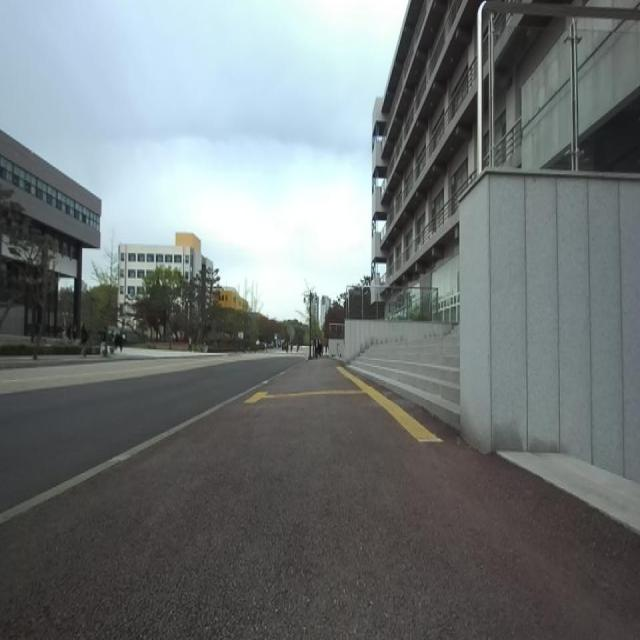sidewalk: (0, 358, 640, 639), (0, 370, 288, 525)
